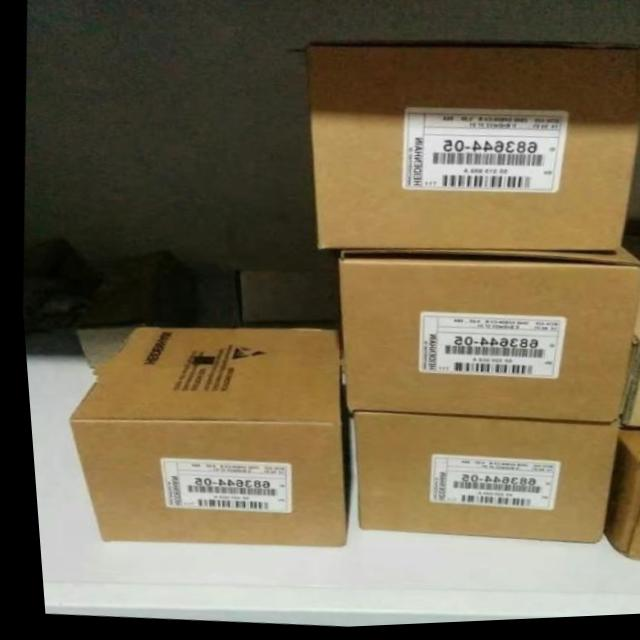box: (307, 43, 640, 253), (55, 328, 345, 548), (337, 250, 640, 428), (344, 413, 612, 546), (19, 240, 191, 329), (237, 267, 339, 330), (593, 429, 640, 564), (611, 313, 640, 432)
